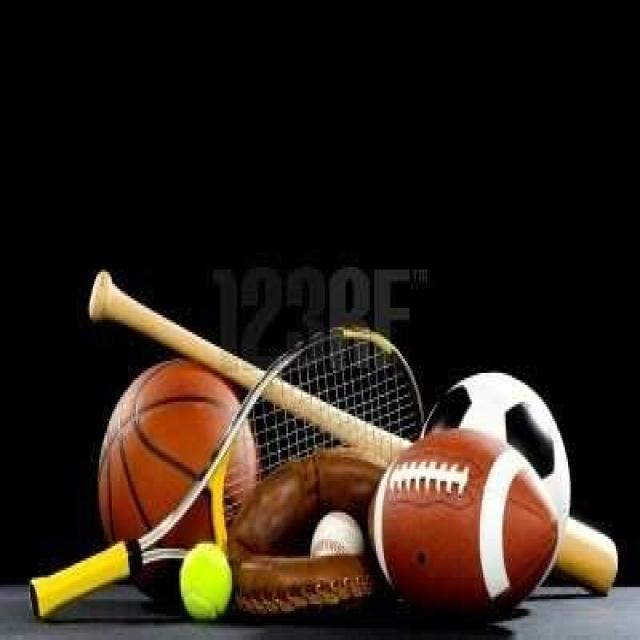Tennis_Ball: (182, 540, 232, 610)
